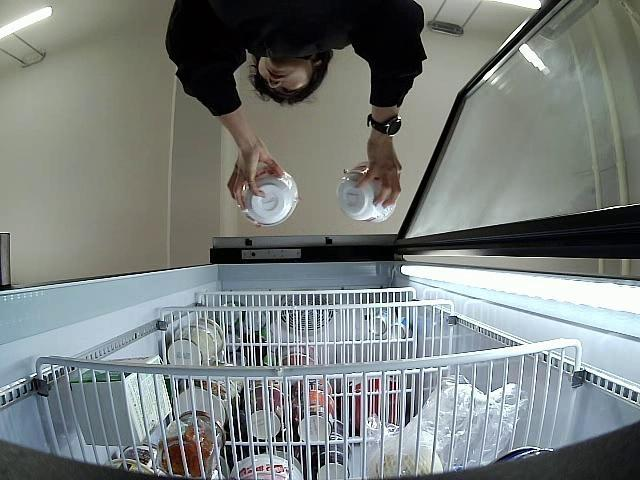09_yukGaeJang: (238, 168, 300, 228), (338, 165, 394, 224)
